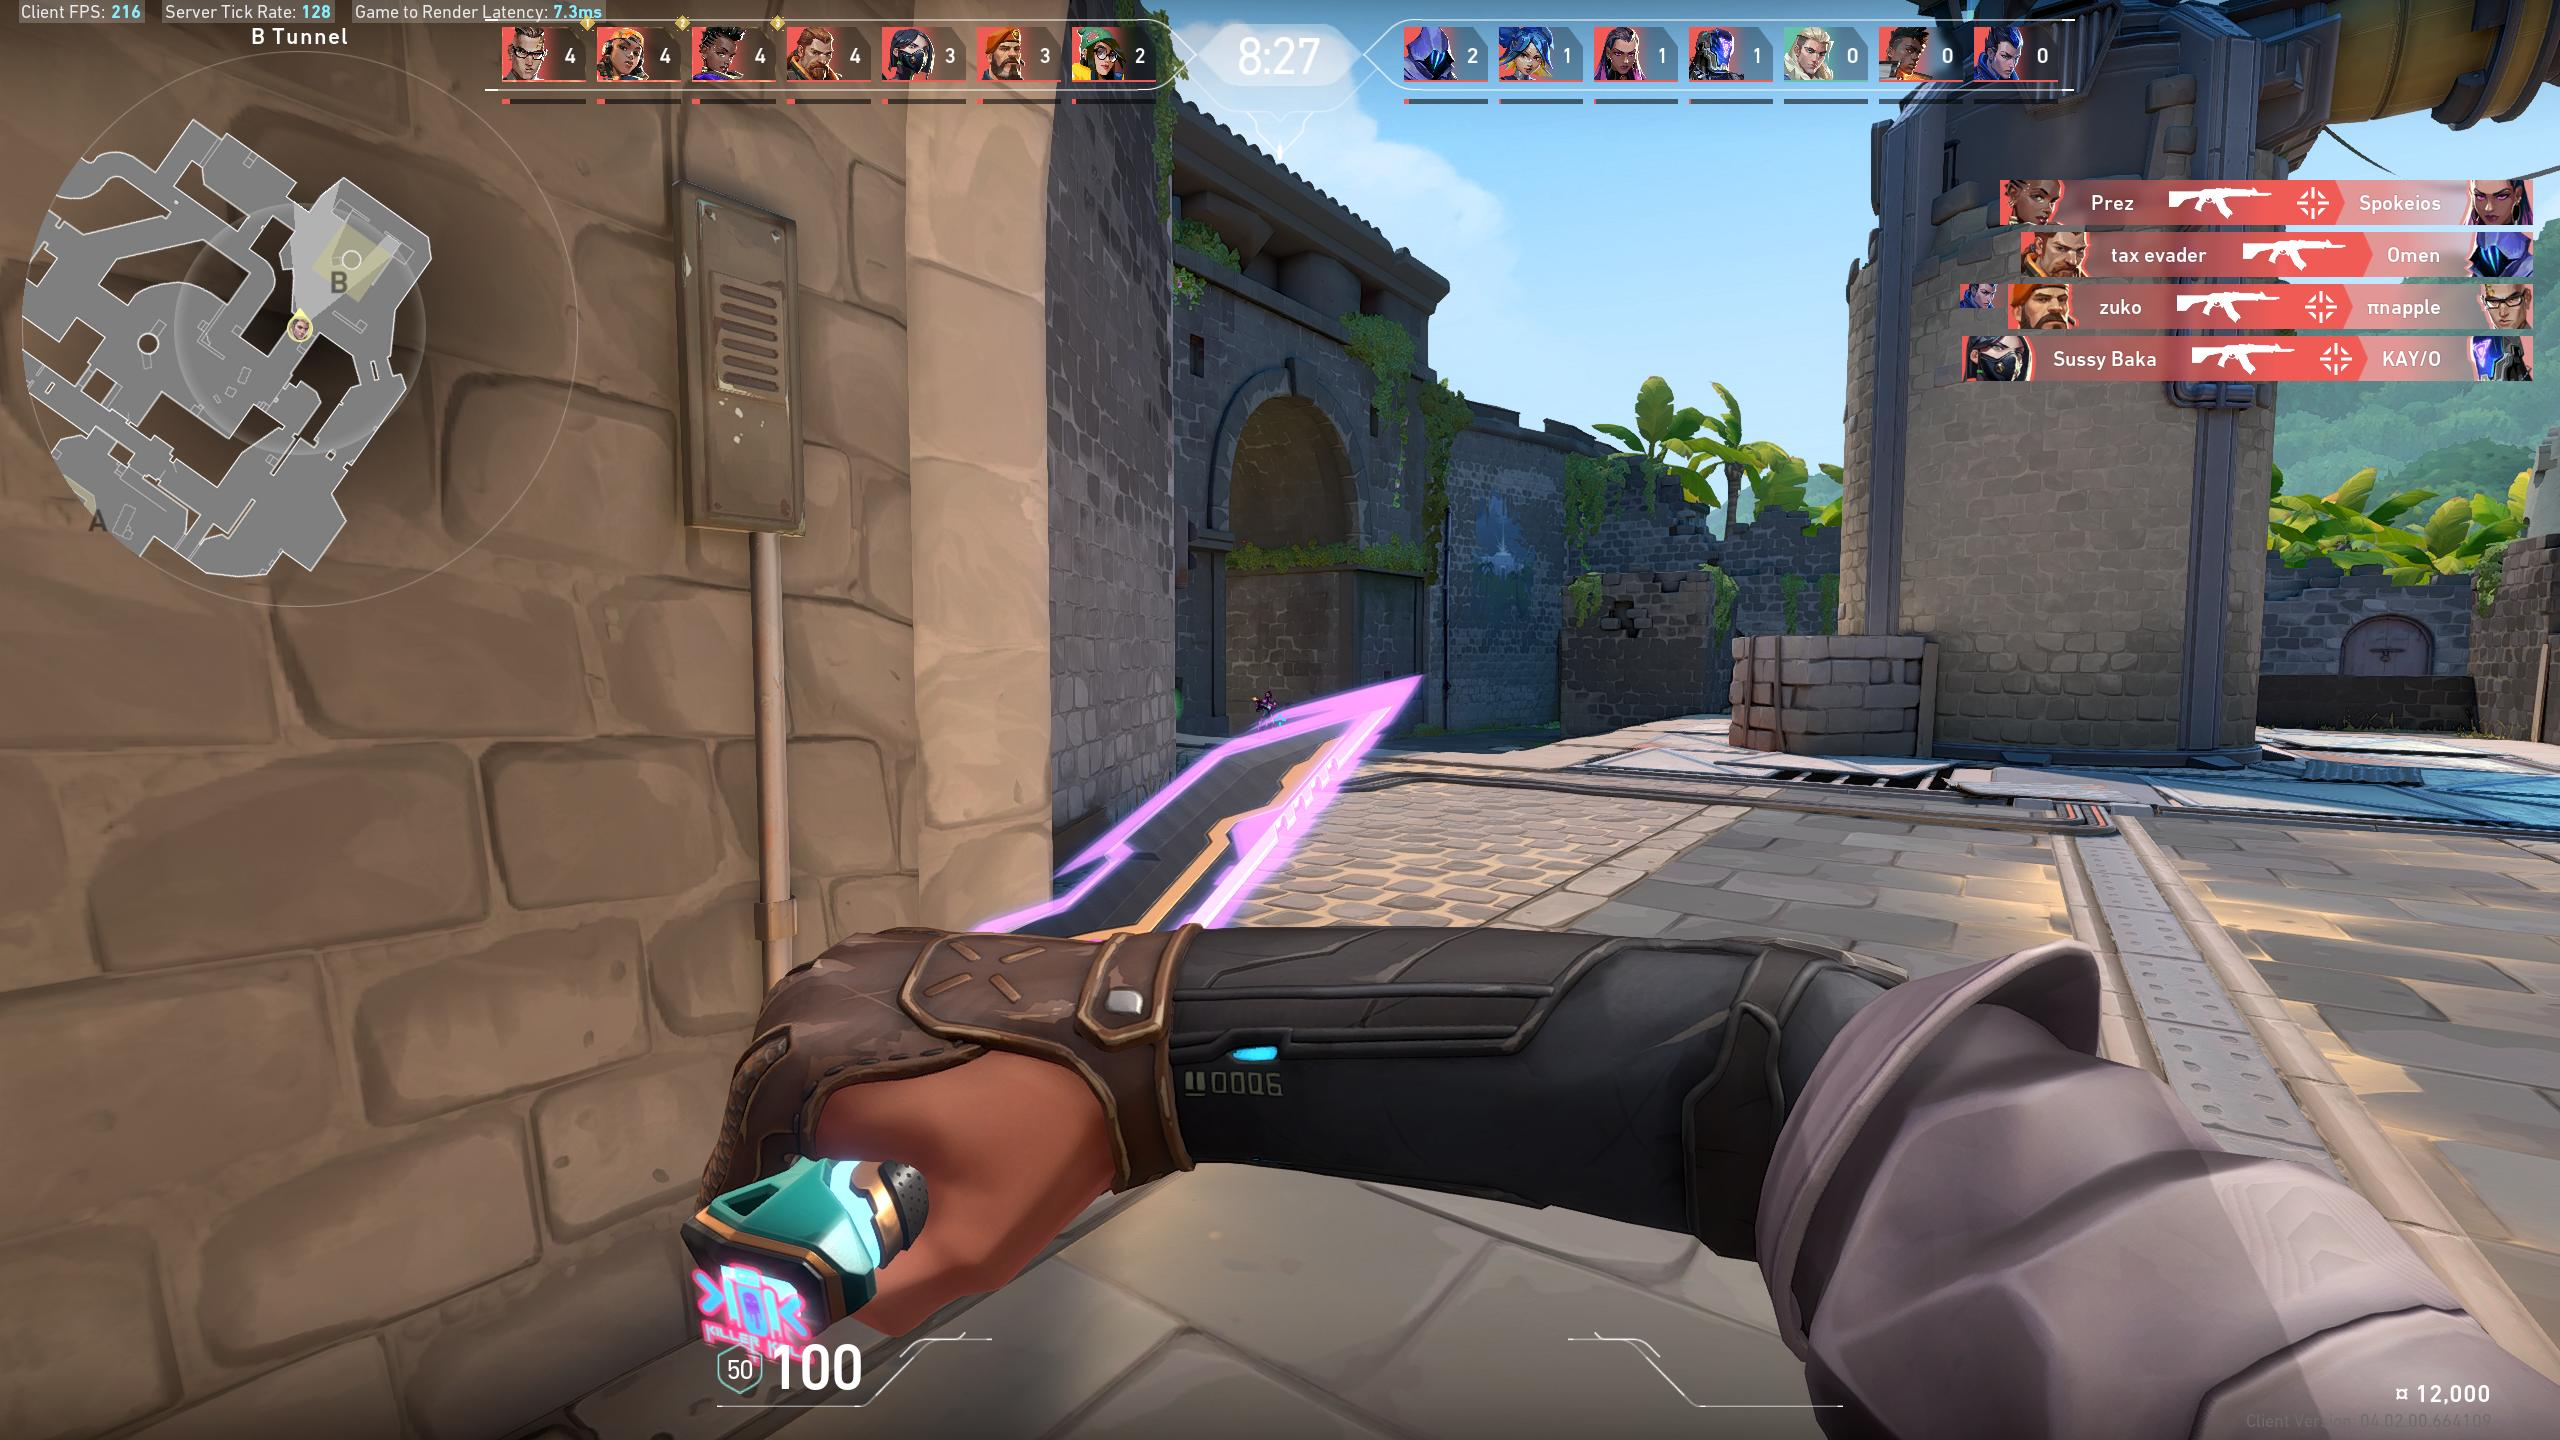enemyBody: (1262, 702, 1269, 716)
enemyHead: (1266, 693, 1269, 698)
